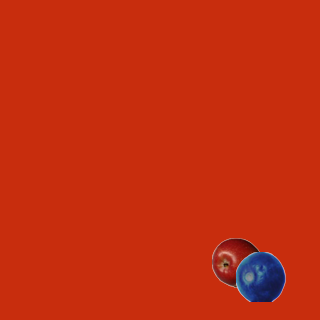Apple Braeburn: (211, 237, 261, 287)
Huckleberry: (235, 251, 285, 301)
